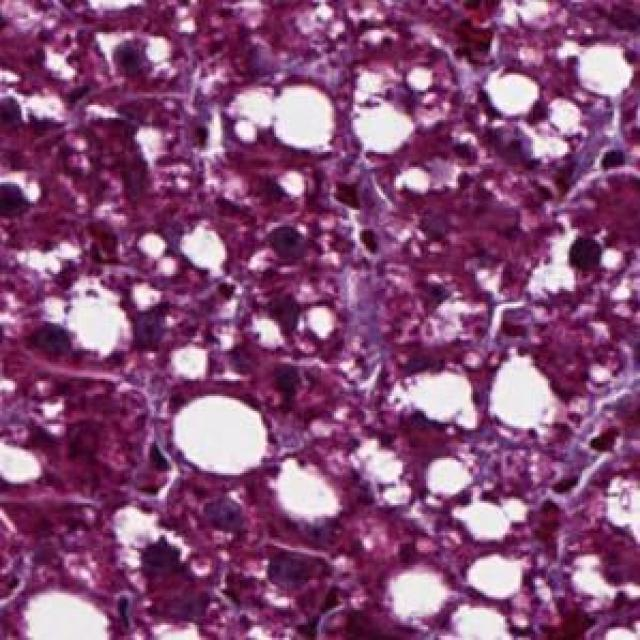ballooning: (229, 73, 334, 154), (171, 396, 270, 473), (490, 349, 563, 432), (576, 38, 634, 100), (482, 62, 544, 118), (381, 570, 452, 618), (471, 554, 526, 600)
